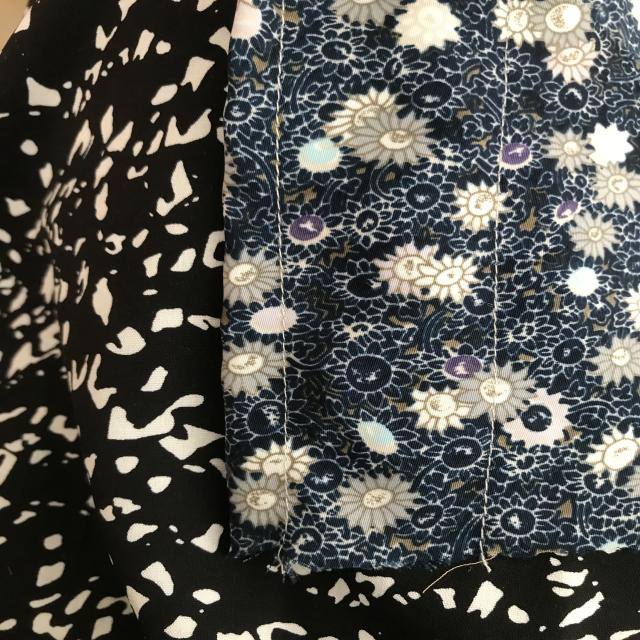good: (481, 236, 506, 355), (498, 65, 520, 126), (280, 379, 302, 430)
